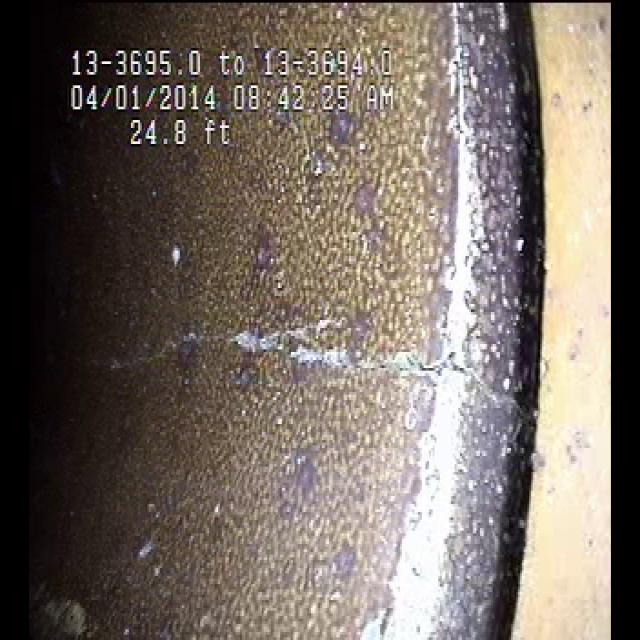Crack: (90, 270, 487, 406)
